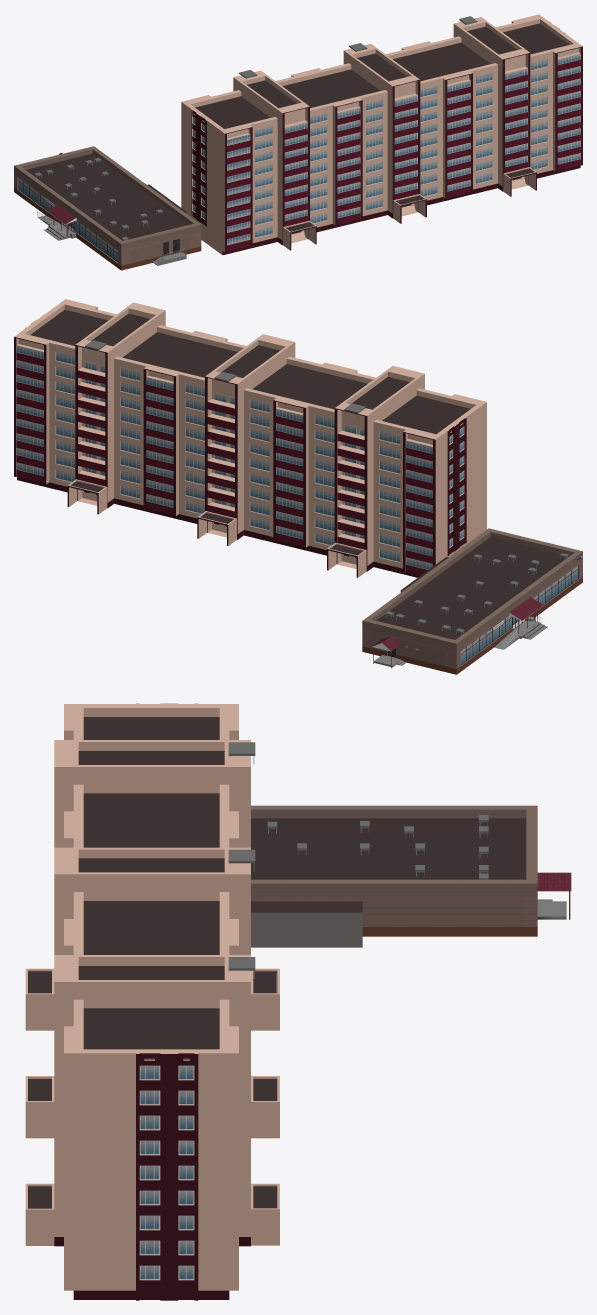
Rendered from chuoinha.glb.
3 renders of one model, top to bottom at view 1: azimuth 30°, elevation 25°; view 2: azimuth 150°, elevation 25°; view 3: azimuth 270°, elevation 25°, orthographic. The views are drawn at different scales.
Parts seen in each view (by area): view 1: Object_5, Object_6, Object_10, Object_8, Object_12; view 2: Object_5, Object_6, Object_10, Object_8, Object_12, Object_11; view 3: Object_5, Object_10, Object_6, Object_9, Object_8.
Boxes of the visible parts, x1=… form: Object_5: x1=181, y1=14, x2=582, y2=255; Object_6: x1=190, y1=42, x2=533, y2=242; Object_10: x1=14, y1=146, x2=201, y2=270; Object_8: x1=34, y1=16, x2=477, y2=240; Object_12: x1=38, y1=215, x2=186, y2=265; Object_5: x1=14, y1=299, x2=486, y2=577; Object_6: x1=123, y1=332, x2=486, y2=558; Object_10: x1=362, y1=528, x2=582, y2=674; Object_8: x1=85, y1=340, x2=568, y2=633; Object_12: x1=374, y1=616, x2=547, y2=667; Object_11: x1=372, y1=597, x2=543, y2=651; Object_5: x1=25, y1=703, x2=279, y2=1300; Object_10: x1=251, y1=805, x2=537, y2=936; Object_6: x1=28, y1=703, x2=250, y2=1208; Object_9: x1=251, y1=912, x2=362, y2=947; Object_8: x1=228, y1=742, x2=488, y2=970.
Size of the model in its own units: 111 by 30.5 by 56.13.
Materials: 8 (5 with a texture image).
